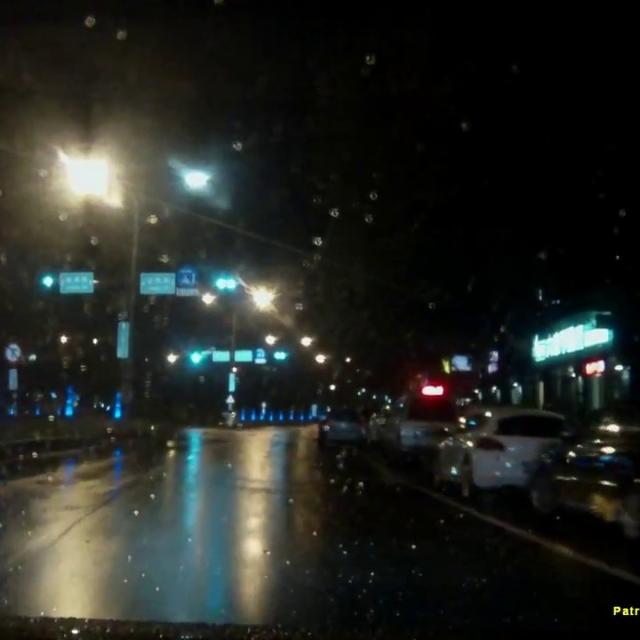Car: (440, 405, 568, 488), (369, 393, 456, 450), (316, 405, 368, 440)
